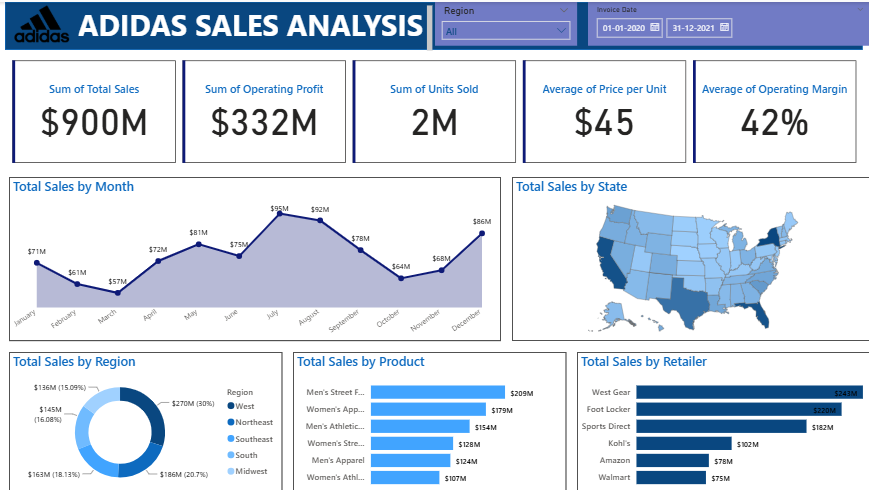

What the dashboard file says about the page in this screenshot:
{"tool":"powerbi","page":{"name":"Page 1","canvas":[1280,720],"ordinal":0},"visuals":[{"type":"shape","box":[10,0,1255,70],"z":0},{"type":"textbox","box":[112,0,528,80],"z":1000},{"type":"image","box":[16,0,96,64],"z":2000},{"type":"cardVisual","fields":{"Data":["Sum(Data Sales Adidas.Total Sales)","Sum(Data Sales Adidas.Operating Profit)","Sum(Data Sales Adidas.Units Sold)","Avg(Data Sales Adidas.Price per Unit)","Avg(Data Sales Adidas.Operating Margin)"]},"box":[16,80,1248,160],"z":2001},{"type":"areaChart","title":"Total Sales by Month","fields":{"Category":["Data Sales Adidas.Invoice Date.Variation.Date Hierarchy.Month"],"Y":["Sum(Data Sales Adidas.Total Sales)"]},"box":[16,256,720,240],"z":2002},{"type":"shapeMap","title":"Total Sales by State","fields":{"Category":["Data Sales Adidas.State"],"Value":["Sum(Data Sales Adidas.Total Sales)"]},"box":[752,256,528,240],"z":2003},{"type":"donutChart","title":"Total Sales by Region","fields":{"Category":["Data Sales Adidas.Region"],"Y":["Sum(Data Sales Adidas.Total Sales)"]},"box":[16,512,400,208],"z":2004},{"type":"barChart","title":"Total Sales by Product","fields":{"Y":["Sum(Data Sales Adidas.Total Sales)"],"Category":["Data Sales Adidas.Product"]},"box":[432,512,400,208],"z":2005},{"type":"barChart","title":"Total Sales by Retailer","fields":{"Y":["Sum(Data Sales Adidas.Total Sales)"],"Category":["Data Sales Adidas.Retailer"]},"box":[848,512,432,208],"z":2006},{"type":"slicer","fields":{"Values":["Data Sales Adidas.Region"]},"box":[640,0,208,64],"z":2007},{"type":"slicer","fields":{"Values":["Data Sales Adidas.Invoice Date"]},"box":[864,0,416,64],"z":2008}]}

Visuals, with their boxes in screenshot pixels (x1, y1, x2, y2), scaled from the page's 1280x720 canvas onto the 869x490 screenshot:
shape: [7,0,859,48]
textbox: [76,0,434,54]
image: [11,0,76,44]
cardVisual - Sum(Data Sales Adidas.Total Sales) x Sum(Data Sales Adidas.Operating Profit): [11,54,858,163]
"Total Sales by Month" areaChart: [11,174,500,338]
"Total Sales by State" shapeMap: [511,174,868,338]
"Total Sales by Region" donutChart: [11,348,282,489]
"Total Sales by Product" barChart: [293,348,565,489]
"Total Sales by Retailer" barChart: [576,348,868,489]
slicer - Data Sales Adidas.Region: [434,0,576,44]
slicer - Data Sales Adidas.Invoice Date: [587,0,868,44]
